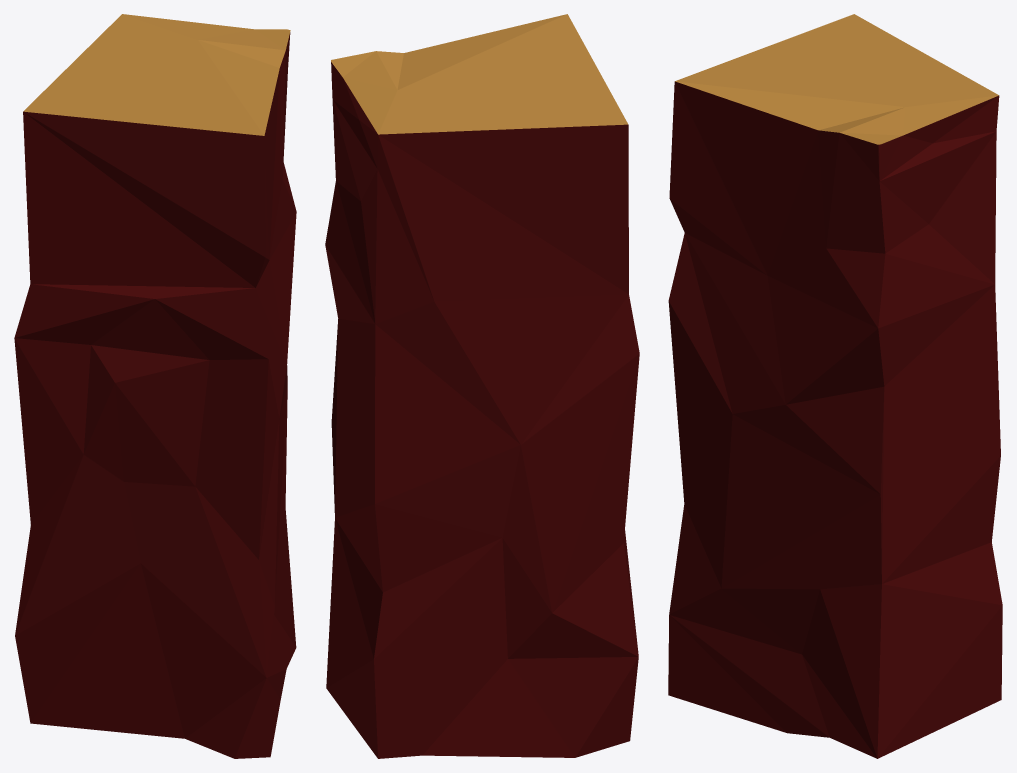
Rendered from modPlat_Wall_Segment_Tall_modelled.fbx.
3 views of the same model, side by side, from view 1: azimuth 30°, elevation 25°; view 2: azimuth 150°, elevation 25°; view 3: azimuth 270°, elevation 25° (orthographic). The views are drawn at different scales.
Visible parts, largest first — view 1: modPlat_Wall_Segment_Tall_modelled; view 2: modPlat_Wall_Segment_Tall_modelled; view 3: modPlat_Wall_Segment_Tall_modelled.
Part boxes in pixels (x1,y1,x2,y2): modPlat_Wall_Segment_Tall_modelled: [14, 14, 296, 758]; modPlat_Wall_Segment_Tall_modelled: [325, 14, 639, 758]; modPlat_Wall_Segment_Tall_modelled: [668, 14, 1002, 758].
Size of the model in its own units: 96.99 by 196 by 96.14.
